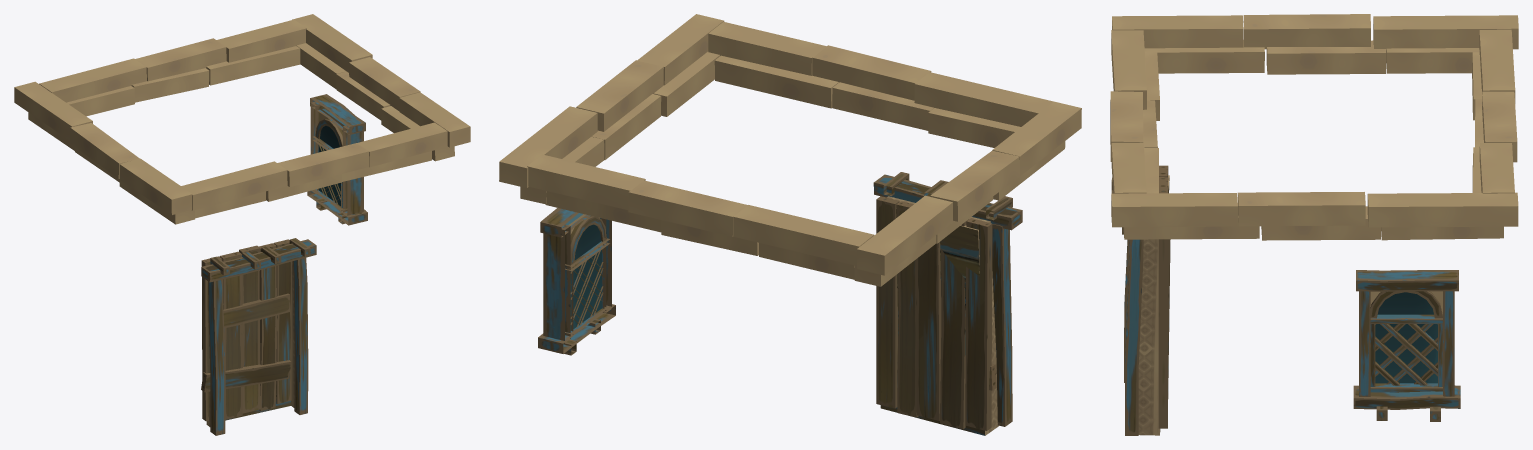
File: A_Small_BuildingBlock_A_KitPart.FBX
3 renders of one model, left to right at view 1: azimuth 30°, elevation 25°; view 2: azimuth 150°, elevation 25°; view 3: azimuth 270°, elevation 25°, orthographic. The views are drawn at different scales.
Parts seen in each view (by area): view 1: A_Small_BuildingBlock_A_KitPart; view 2: A_Small_BuildingBlock_A_KitPart; view 3: A_Small_BuildingBlock_A_KitPart.
Boxes of the visible parts, x1=… form: A_Small_BuildingBlock_A_KitPart: x1=14, y1=14, x2=470, y2=435; A_Small_BuildingBlock_A_KitPart: x1=499, y1=14, x2=1081, y2=435; A_Small_BuildingBlock_A_KitPart: x1=1110, y1=14, x2=1518, y2=435.
Size of the model in its own units: 406 by 325 by 363.
Materials: 1 (1 with a texture image).
